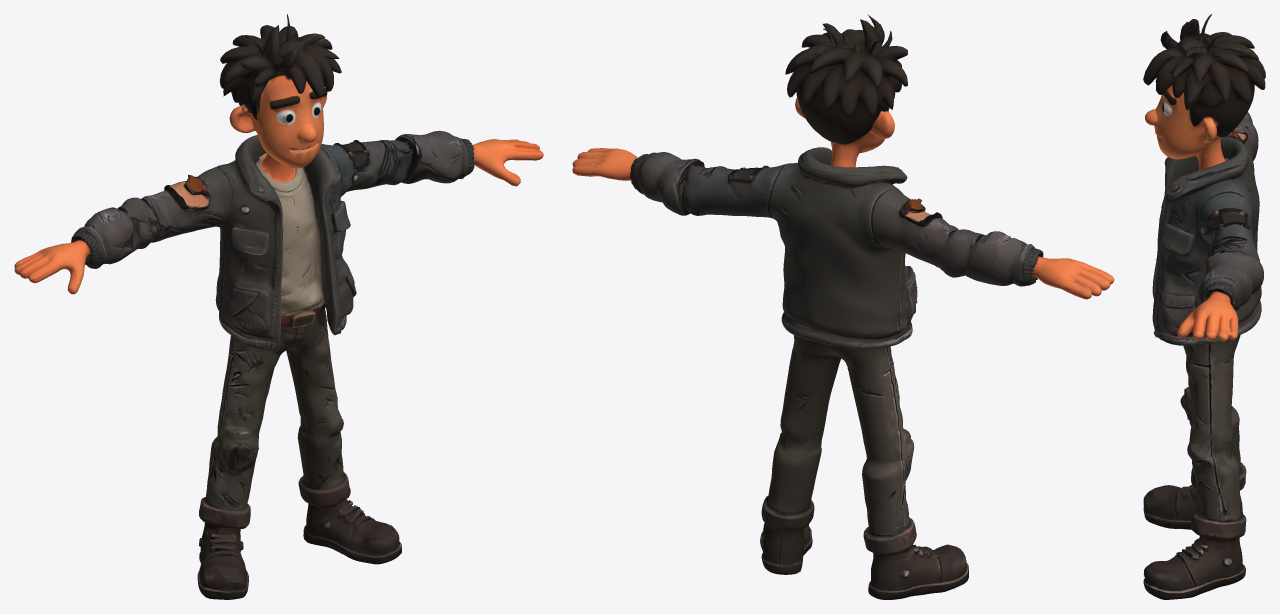
Rendered from human_townsperson.glb.
3 views of the same model, side by side, from view 1: azimuth 30°, elevation 25°; view 2: azimuth 150°, elevation 25°; view 3: azimuth 270°, elevation 25° (orthographic). The views are drawn at different scales.
Visible parts, largest first — view 1: tripo_node_5402936b-2bb1-49ed-956c-ffafb08b6d55; view 2: tripo_node_5402936b-2bb1-49ed-956c-ffafb08b6d55; view 3: tripo_node_5402936b-2bb1-49ed-956c-ffafb08b6d55.
Boxes of the visible parts, <box> form: tripo_node_5402936b-2bb1-49ed-956c-ffafb08b6d55: <box>14,14,543,599</box>; tripo_node_5402936b-2bb1-49ed-956c-ffafb08b6d55: <box>572,14,1114,599</box>; tripo_node_5402936b-2bb1-49ed-956c-ffafb08b6d55: <box>1143,14,1265,599</box>.
Bounding box in the file's own units: 0.9813 × 0.9835 × 0.2046.
Materials: 1 (1 with a texture image).
